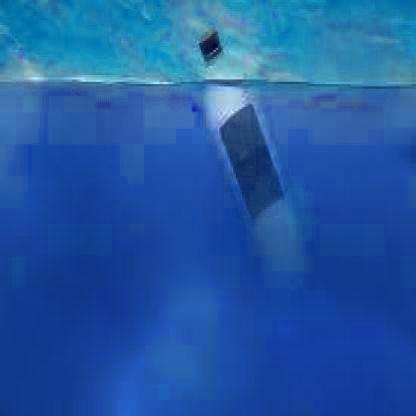pbottle: (183, 13, 306, 276)
